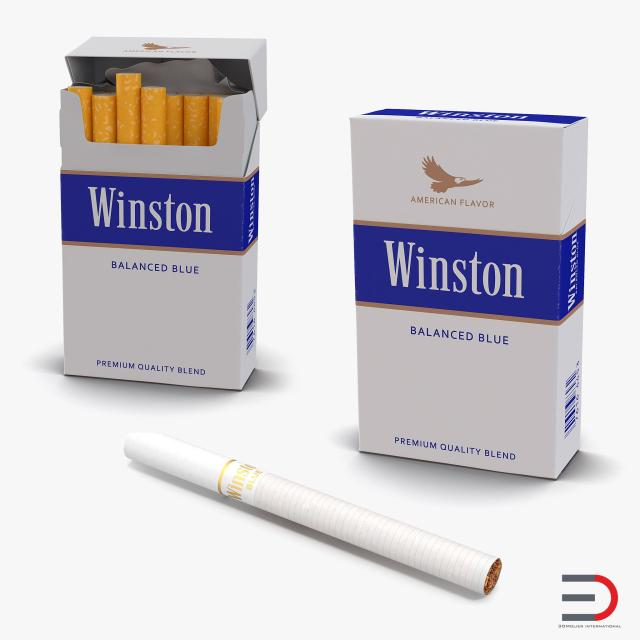winston: (354, 97, 590, 480), (48, 34, 263, 388)
